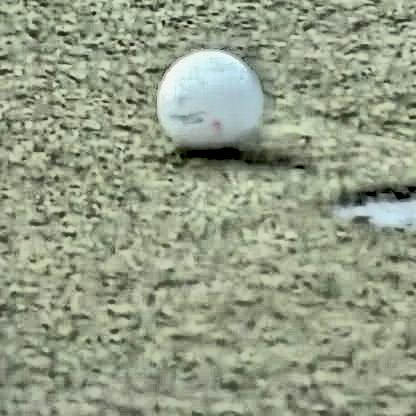golfball: (154, 49, 260, 151)
